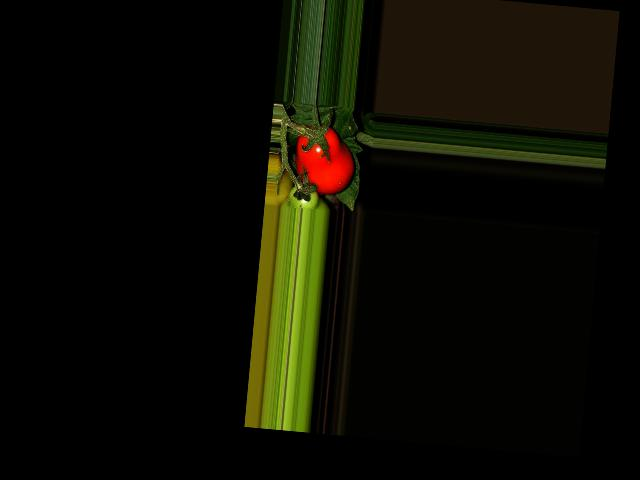tomato: (292, 123, 358, 196)
